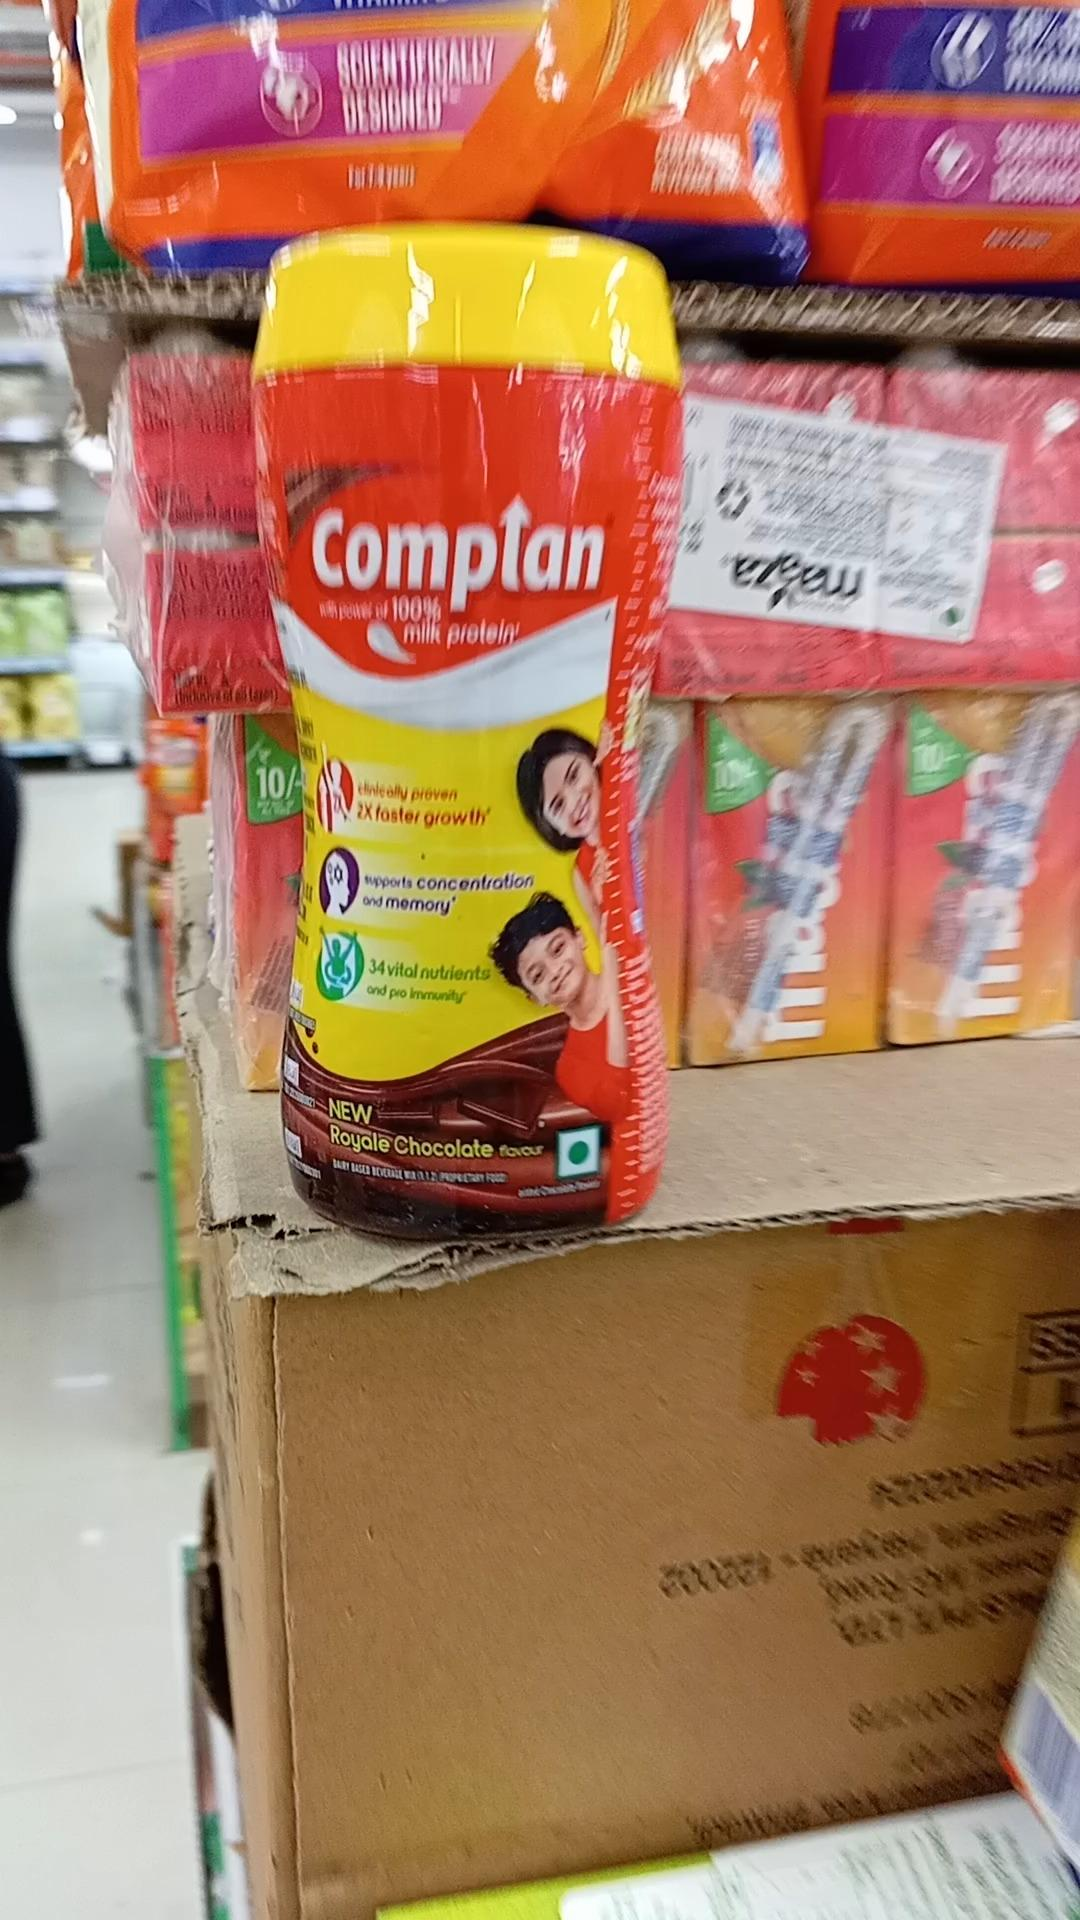COMPLAN_CHOCOLATE_200_GMS_JAR: (255, 225, 665, 1236)
